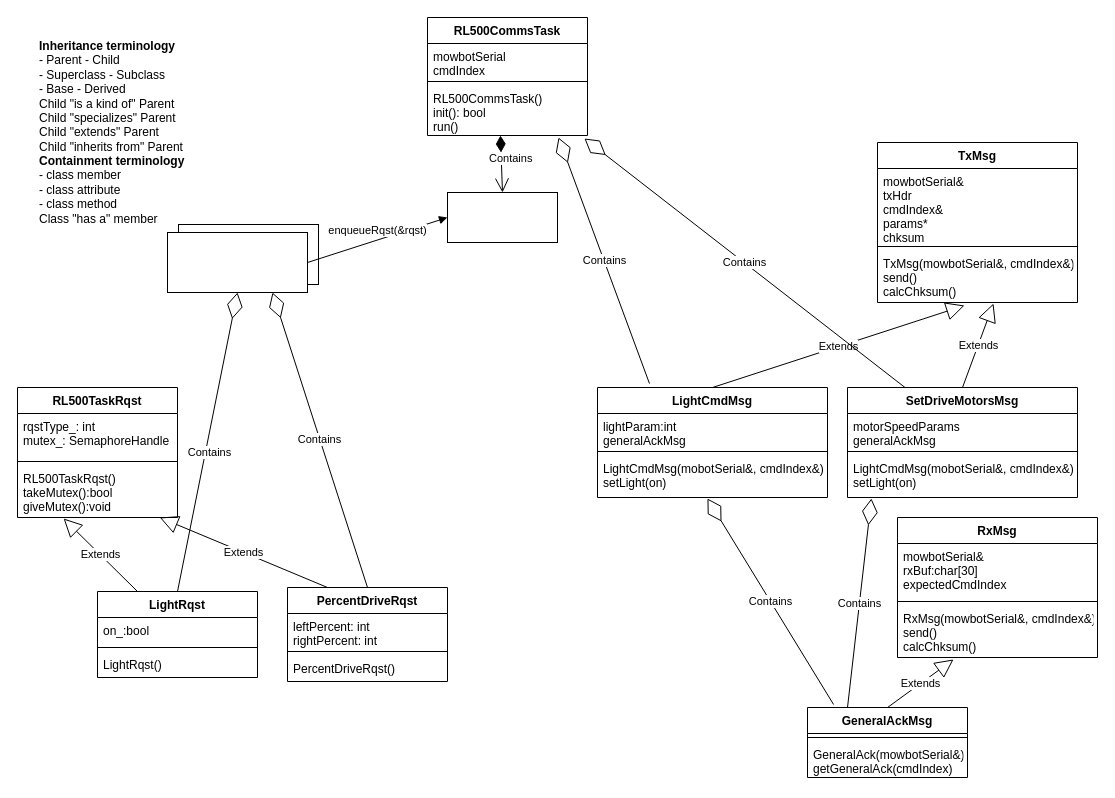
The diagram is 1115 pixels wide and 798 high, and some of its shapes have lost their labels. The centre of each missing label's shape, as x and y in pixels:
mowbotRqstQ: (x=502, y=217)
Req uestor tasks: (x=237, y=262)
